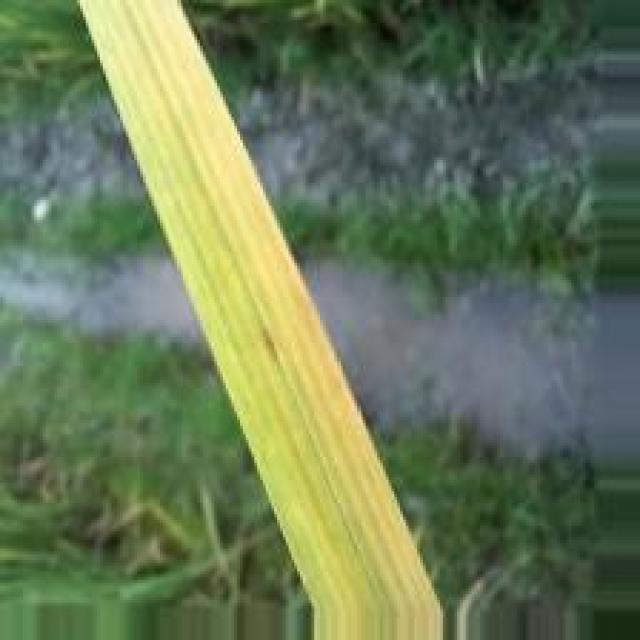Brown_Spot: (254, 327, 280, 370)
